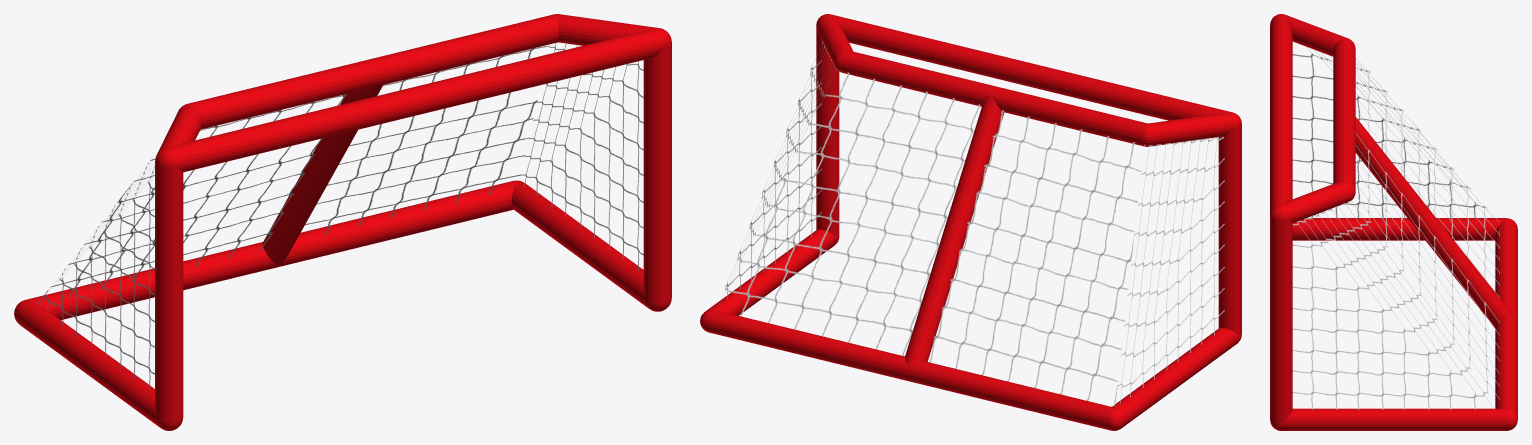
The model's file is goal.glb.
The picture shows the model from 3 angles, left to right: view 1: azimuth 30°, elevation 25°; view 2: azimuth 150°, elevation 25°; view 3: azimuth 270°, elevation 25°; orthographic projection. The views are drawn at different scales.
Parts seen in each view (by area): view 1: Sphere, Sphere.001, Sphere.003, Plane.001, Cylinder; view 2: Plane.001, Sphere, Sphere.001, Sphere.003, Cylinder; view 3: Sphere.001, Plane.001, Sphere, Sphere.003, Cylinder.
Part boxes in pixels (x1,y1,x2,y2): Sphere: (155, 28, 671, 422); Sphere.001: (14, 180, 647, 427); Sphere.003: (157, 14, 659, 153); Plane.001: (37, 43, 643, 389); Cylinder: (262, 82, 382, 264); Plane.001: (718, 41, 1224, 406); Sphere: (816, 14, 1241, 336); Sphere.001: (700, 229, 1240, 430); Sphere.003: (816, 15, 1233, 146); Cylinder: (905, 94, 1004, 365); Sphere.001: (1281, 218, 1517, 430); Plane.001: (1292, 47, 1499, 409); Sphere: (1270, 14, 1292, 424); Sphere.003: (1281, 14, 1355, 222); Cylinder: (1352, 113, 1514, 327).
Size of the model in its own units: 4.2 by 2.2 by 2.2.
Materials: 2 (1 with a texture image).
